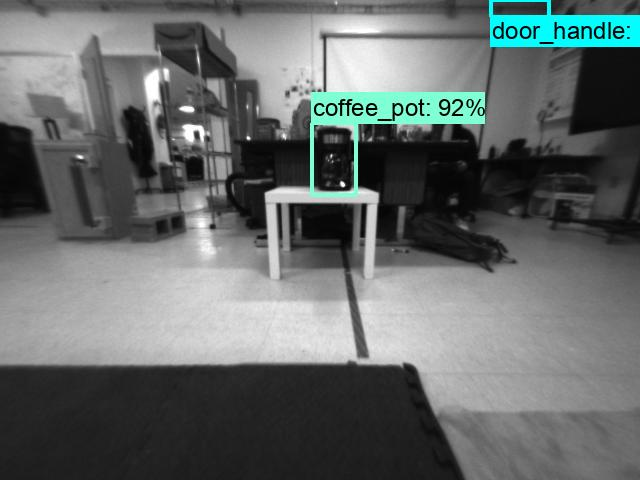coffee_pot: (311, 123, 357, 192)
